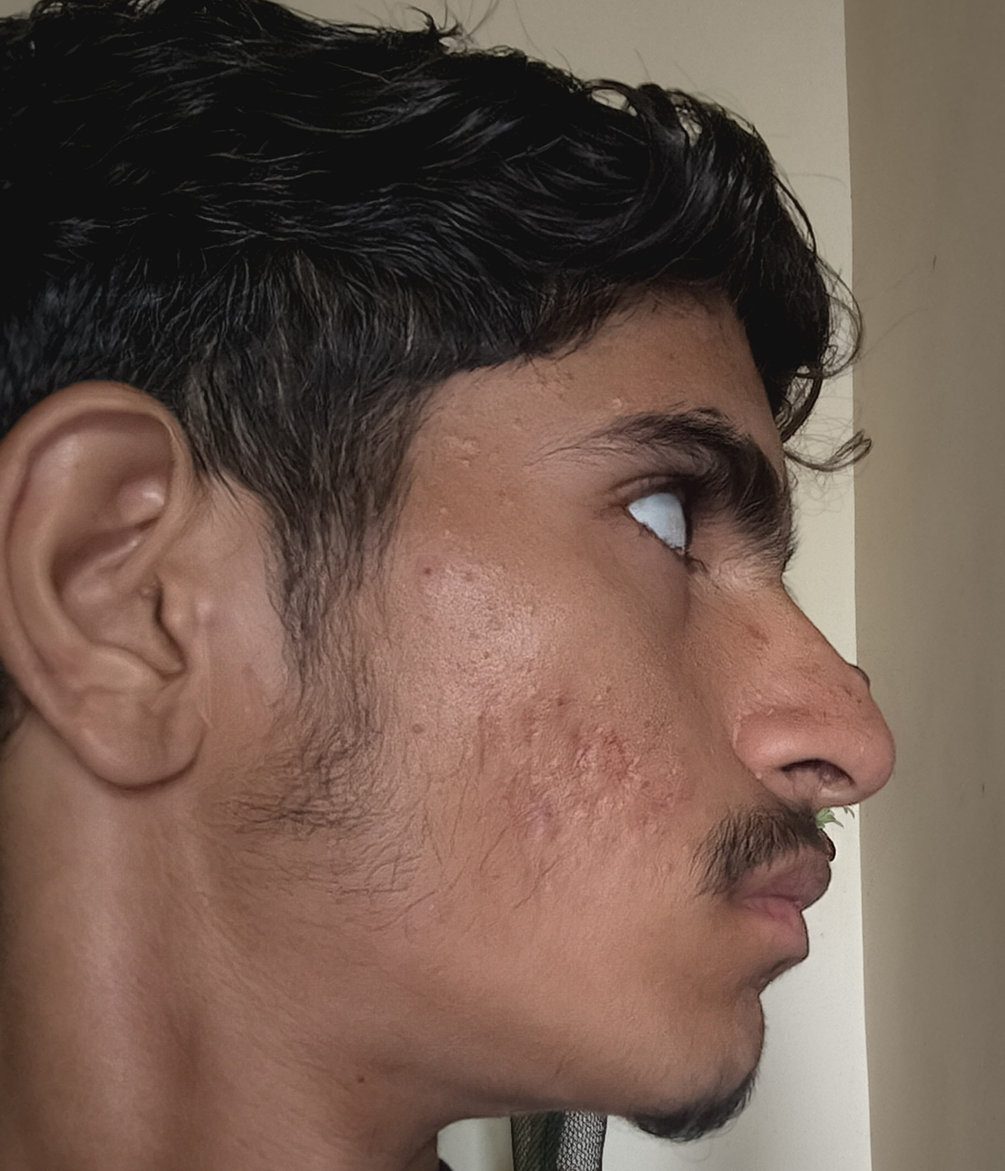closed_comedone: (458, 454, 477, 473), (612, 397, 624, 409), (439, 505, 451, 513), (443, 529, 452, 538)
macrocomedone: (723, 694, 773, 717), (526, 685, 542, 701)
